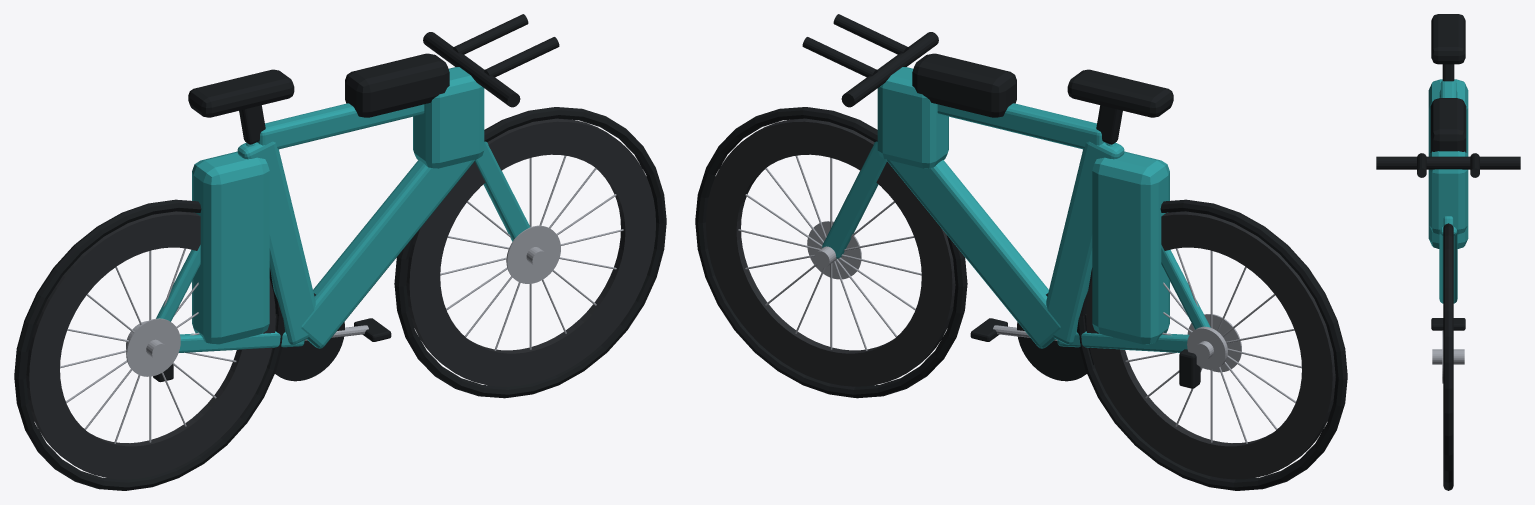
File: scott-plasma-rc-provisional.glb
The picture shows the model from 3 angles, left to right: view 1: azimuth 30°, elevation 25°; view 2: azimuth 150°, elevation 25°; view 3: azimuth 270°, elevation 25°; orthographic projection. The views are drawn at different scales.
Visible parts, largest first — view 1: scott-plasma-rc-provisional_FRONT_WHEEL_RIM, scott-plasma-rc-provisional_REAR_WHEEL_RIM, scott-plasma-rc-provisional_PLASMA_REAR_STORAGE, scott-plasma-rc-provisional_DOWN_TUBE, scott-plasma-rc-provisional_FRONT_WHEEL_TIRE, scott-plasma-rc-provisional_REAR_WHEEL_TIRE, scott-plasma-rc-provisional_SEAT_TUBE, scott-plasma-rc-provisional_PLASMA_HEAD, scott-plasma-rc-provisional, scott-plasma-rc-provisional_PLASMA_TOP_HYDRATION, scott-plasma-rc-provisional_TOP_TUBE, scott-plasma-rc-provisional_SADDLE (+10 smaller); view 2: scott-plasma-rc-provisional_FRONT_WHEEL_RIM, scott-plasma-rc-provisional_REAR_WHEEL_RIM, scott-plasma-rc-provisional_PLASMA_REAR_STORAGE, scott-plasma-rc-provisional_DOWN_TUBE, scott-plasma-rc-provisional_FRONT_WHEEL_TIRE, scott-plasma-rc-provisional_REAR_WHEEL_TIRE, scott-plasma-rc-provisional_SEAT_TUBE, scott-plasma-rc-provisional, scott-plasma-rc-provisional_PLASMA_HEAD, scott-plasma-rc-provisional_PLASMA_TOP_HYDRATION, scott-plasma-rc-provisional_TOP_TUBE, scott-plasma-rc-provisional_SADDLE (+12 smaller); view 3: scott-plasma-rc-provisional_FRONT_WHEEL_TIRE, scott-plasma-rc-provisional_PLASMA_HEAD, scott-plasma-rc-provisional_PLASMA_TOP_HYDRATION, scott-plasma-rc-provisional_AERO_BASE, scott-plasma-rc-provisional_SADDLE, scott-plasma-rc-provisional_PLASMA_REAR_STORAGE, scott-plasma-rc-provisional_DOWN_TUBE, scott-plasma-rc-provisional_FRONT_WHEEL_HUB, scott-plasma-rc-provisional_PEDAL, scott-plasma-rc-provisional_TOP_TUBE, scott-plasma-rc-provisional_EXT_L, scott-plasma-rc-provisional_EXT_R (+1 smaller).
Boxes of the visible parts, x1,y1,x2,y2 form: scott-plasma-rc-provisional_FRONT_WHEEL_RIM: (406,118,655,386); scott-plasma-rc-provisional_REAR_WHEEL_RIM: (26,211,275,479); scott-plasma-rc-provisional_PLASMA_REAR_STORAGE: (192,151,269,344); scott-plasma-rc-provisional_DOWN_TUBE: (301,159,475,348); scott-plasma-rc-provisional_FRONT_WHEEL_TIRE: (394,107,666,398); scott-plasma-rc-provisional_REAR_WHEEL_TIRE: (14,199,284,490); scott-plasma-rc-provisional_SEAT_TUBE: (237,141,315,344); scott-plasma-rc-provisional_PLASMA_HEAD: (413,67,484,168); scott-plasma-rc-provisional: (60,155,623,443); scott-plasma-rc-provisional_PLASMA_TOP_HYDRATION: (345,53,449,117); scott-plasma-rc-provisional_TOP_TUBE: (257,103,424,149); scott-plasma-rc-provisional_SADDLE: (188,69,294,117); scott-plasma-rc-provisional_FRONT_WHEEL_RIM: (706,118,955,386); scott-plasma-rc-provisional_REAR_WHEEL_RIM: (1086,211,1335,479); scott-plasma-rc-provisional_PLASMA_REAR_STORAGE: (1092,151,1169,344); scott-plasma-rc-provisional_DOWN_TUBE: (886,159,1060,348); scott-plasma-rc-provisional_FRONT_WHEEL_TIRE: (695,107,967,398); scott-plasma-rc-provisional_REAR_WHEEL_TIRE: (1077,199,1347,490); scott-plasma-rc-provisional_SEAT_TUBE: (1046,141,1124,344); scott-plasma-rc-provisional: (738,155,1301,443); scott-plasma-rc-provisional_PLASMA_HEAD: (877,67,948,168); scott-plasma-rc-provisional_PLASMA_TOP_HYDRATION: (912,53,1016,117); scott-plasma-rc-provisional_TOP_TUBE: (937,103,1104,149); scott-plasma-rc-provisional_SADDLE: (1067,69,1173,117); scott-plasma-rc-provisional_FRONT_WHEEL_TIRE: (1443,223,1453,490); scott-plasma-rc-provisional_PLASMA_HEAD: (1429,151,1467,234); scott-plasma-rc-provisional_PLASMA_TOP_HYDRATION: (1430,98,1466,152); scott-plasma-rc-provisional_AERO_BASE: (1376,156,1520,169); scott-plasma-rc-provisional_SADDLE: (1431,14,1465,64); scott-plasma-rc-provisional_PLASMA_REAR_STORAGE: (1428,79,1468,248); scott-plasma-rc-provisional_DOWN_TUBE: (1439,226,1457,303); scott-plasma-rc-provisional_FRONT_WHEEL_HUB: (1432,349,1464,364); scott-plasma-rc-provisional_PEDAL: (1431,318,1465,330); scott-plasma-rc-provisional_TOP_TUBE: (1440,80,1456,97); scott-plasma-rc-provisional_EXT_L: (1417,153,1426,177); scott-plasma-rc-provisional_EXT_R: (1470,153,1479,177).
Bounding box in the file's own units: 1.7 × 0.949 × 0.38.
